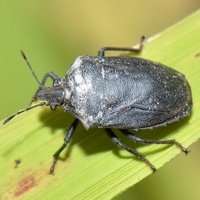insect: (0, 106, 151, 199), (117, 133, 179, 167), (136, 116, 199, 146), (169, 47, 199, 80)
